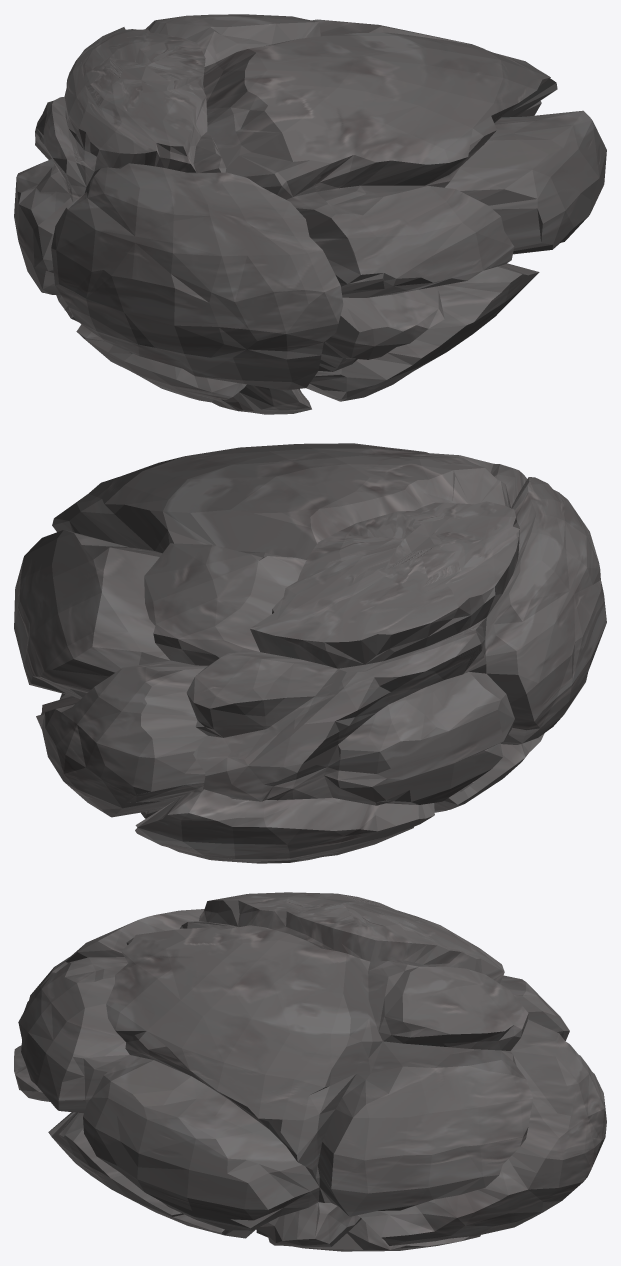
The model's file is MOD_RoundRock.fbx.
3 views of the same model, one above another, from view 1: azimuth 30°, elevation 25°; view 2: azimuth 150°, elevation 25°; view 3: azimuth 270°, elevation 25° (orthographic). The views are drawn at different scales.
Visible parts, largest first — view 1: Sphere15; view 2: Sphere15; view 3: Sphere15.
Part boxes in pixels (x1=…): Sphere15: x1=14, y1=14, x2=606, y2=414; Sphere15: x1=14, y1=443, x2=606, y2=863; Sphere15: x1=14, y1=892, x2=606, y2=1251.
Bounding box in the file's own units: 2.75 × 1.64 × 3.07.
